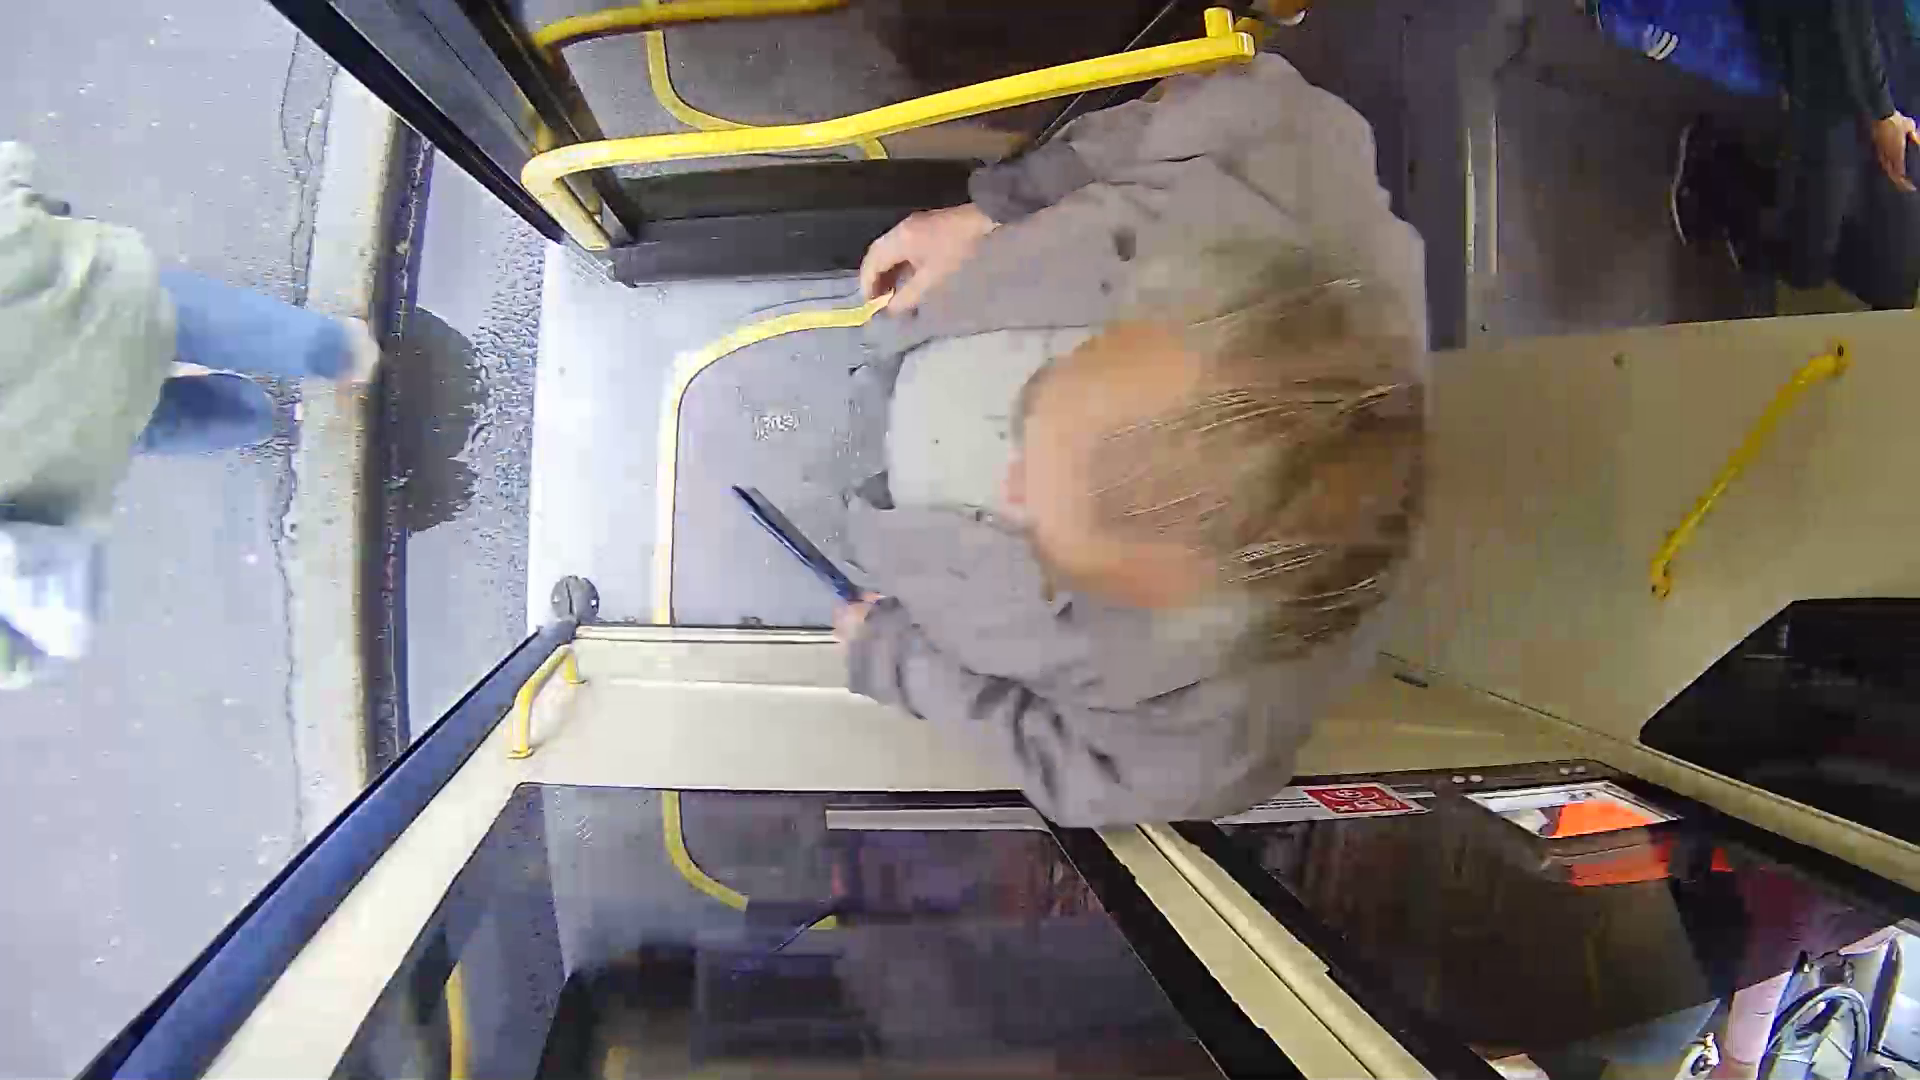person: (789, 67, 1468, 842)
